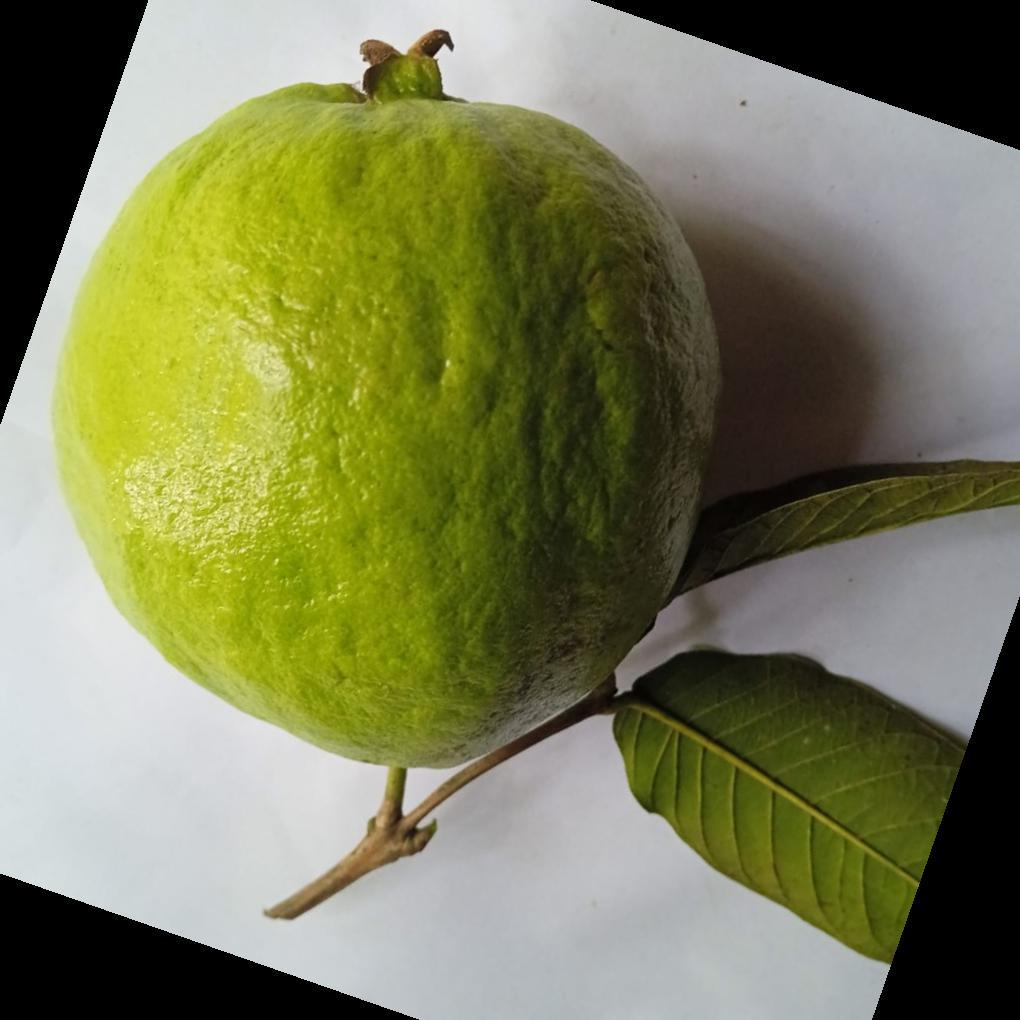FreshGuava: (47, 31, 723, 775)
